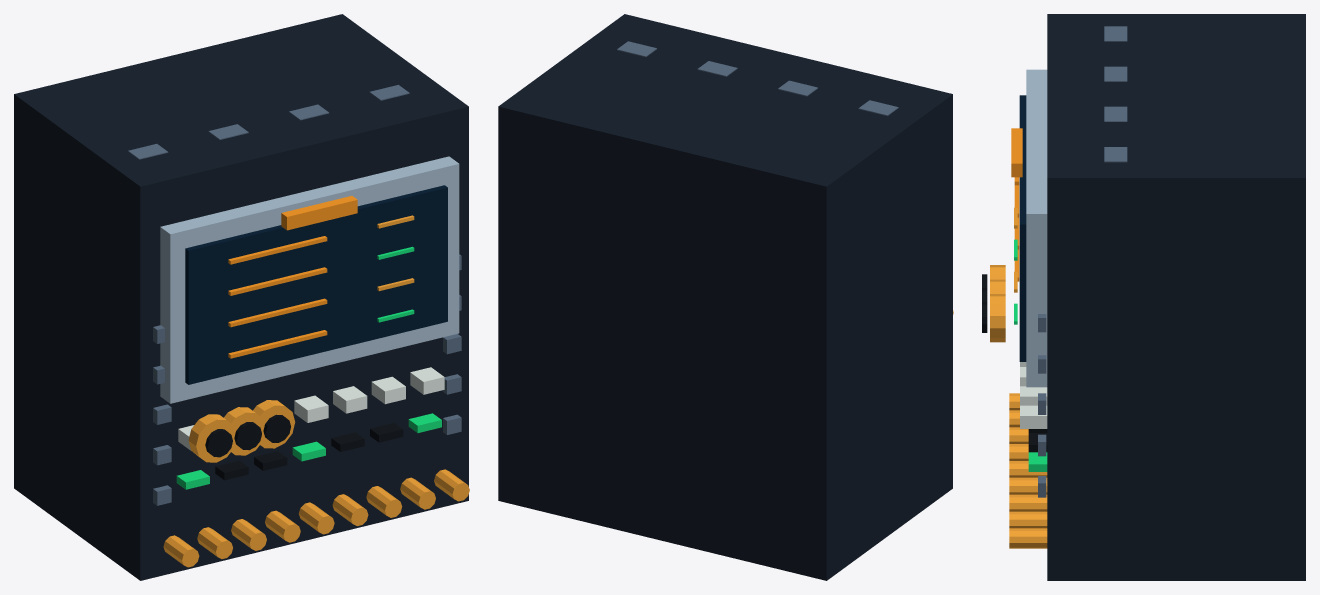
The model's file is 87_L88_EmergencyAtmosphereIsolationConsole.fbx.
3 renders of one model, left to right at view 1: azimuth 30°, elevation 25°; view 2: azimuth 150°, elevation 25°; view 3: azimuth 270°, elevation 25°, orthographic. The views are drawn at different scales.
Visible parts, largest first — view 1: L87_EmergencyAtmosphereIsolationConsole_Part_0000, L87_EmergencyAtmosphereIsolationConsole_Part_0002, L87_EmergencyAtmosphereIsolationConsole_Part_0001, L87_EmergencyAtmosphereIsolationConsole_Part_0004, L87_EmergencyAtmosphereIsolationConsole_Part_0008, L87_EmergencyAtmosphereIsolationConsole_Part_0006, L87_EmergencyAtmosphereIsolationConsole_Part_0003, L87_EmergencyAtmosphereIsolationConsole_Part_0007, L87_EmergencyAtmosphereIsolationConsole_Part_0005, L87_EmergencyAtmosphereIsolationConsole_Part_0009, L87_EmergencyAtmosphereIsolationConsole_Part_0010, L87_EmergencyAtmosphereIsolationConsole_Part_0014 (+4 smaller); view 2: L87_EmergencyAtmosphereIsolationConsole_Part_0000, L87_EmergencyAtmosphereIsolationConsole_Part_0008; view 3: L87_EmergencyAtmosphereIsolationConsole_Part_0000, L87_EmergencyAtmosphereIsolationConsole_Part_0001, L87_EmergencyAtmosphereIsolationConsole_Part_0004, L87_EmergencyAtmosphereIsolationConsole_Part_0008, L87_EmergencyAtmosphereIsolationConsole_Part_0002, L87_EmergencyAtmosphereIsolationConsole_Part_0006, L87_EmergencyAtmosphereIsolationConsole_Part_0014, L87_EmergencyAtmosphereIsolationConsole_Part_0009, L87_EmergencyAtmosphereIsolationConsole_Part_0005, L87_EmergencyAtmosphereIsolationConsole_Part_0003.
Part boxes in pixels (x1,y1,x2,y2): L87_EmergencyAtmosphereIsolationConsole_Part_0000: (14,14,468,580); L87_EmergencyAtmosphereIsolationConsole_Part_0002: (185,185,447,384); L87_EmergencyAtmosphereIsolationConsole_Part_0001: (160,156,459,403); L87_EmergencyAtmosphereIsolationConsole_Part_0004: (163,215,469,567); L87_EmergencyAtmosphereIsolationConsole_Part_0008: (128,85,461,505); L87_EmergencyAtmosphereIsolationConsole_Part_0006: (178,367,444,450); L87_EmergencyAtmosphereIsolationConsole_Part_0003: (228,236,327,358); L87_EmergencyAtmosphereIsolationConsole_Part_0007: (215,423,403,480); L87_EmergencyAtmosphereIsolationConsole_Part_0005: (176,246,441,489); L87_EmergencyAtmosphereIsolationConsole_Part_0009: (281,196,357,230); L87_EmergencyAtmosphereIsolationConsole_Part_0010: (188,414,235,462); L87_EmergencyAtmosphereIsolationConsole_Part_0014: (253,400,295,448); L87_EmergencyAtmosphereIsolationConsole_Part_0000: (498,14,952,580); L87_EmergencyAtmosphereIsolationConsole_Part_0008: (617,41,898,115); L87_EmergencyAtmosphereIsolationConsole_Part_0000: (1047,14,1305,580); L87_EmergencyAtmosphereIsolationConsole_Part_0001: (1026,69,1047,387); L87_EmergencyAtmosphereIsolationConsole_Part_0004: (1009,207,1047,548); L87_EmergencyAtmosphereIsolationConsole_Part_0008: (1038,26,1127,497); L87_EmergencyAtmosphereIsolationConsole_Part_0002: (1019,95,1026,361); L87_EmergencyAtmosphereIsolationConsole_Part_0006: (1020,362,1047,428); L87_EmergencyAtmosphereIsolationConsole_Part_0014: (990,294,1005,342); L87_EmergencyAtmosphereIsolationConsole_Part_0009: (1011,128,1022,177); L87_EmergencyAtmosphereIsolationConsole_Part_0005: (1014,239,1047,471); L87_EmergencyAtmosphereIsolationConsole_Part_0003: (1014,177,1019,281).
Size of the model in its own units: 104 by 120 by 86.88.
